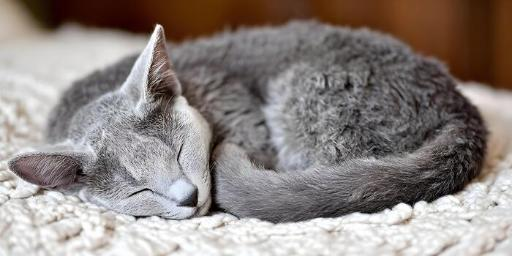cat_sleeping: (7, 22, 486, 222)
